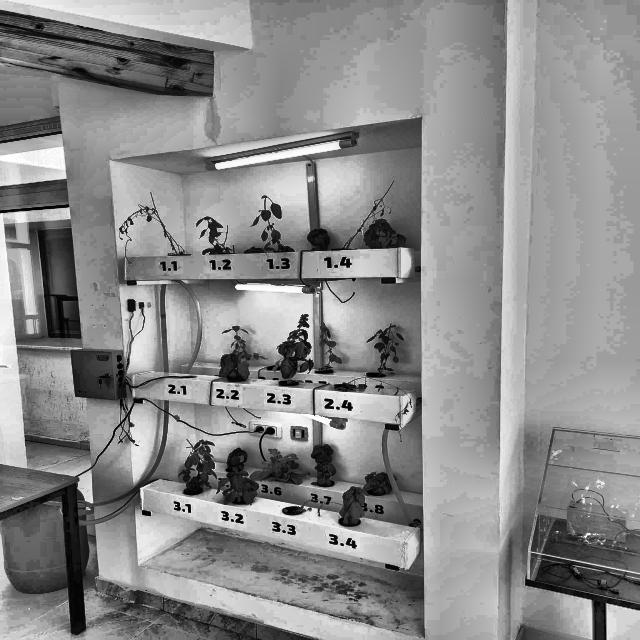plants: (343, 372, 411, 438), (120, 204, 184, 254), (274, 317, 310, 382), (364, 325, 404, 383), (178, 436, 216, 494), (254, 196, 293, 252), (295, 498, 381, 523), (220, 325, 256, 383), (262, 438, 305, 482), (364, 202, 402, 248), (195, 218, 232, 258), (220, 470, 259, 506), (316, 320, 342, 370), (311, 445, 336, 486), (340, 487, 366, 526), (365, 472, 391, 496), (225, 447, 248, 472), (307, 228, 330, 250)
